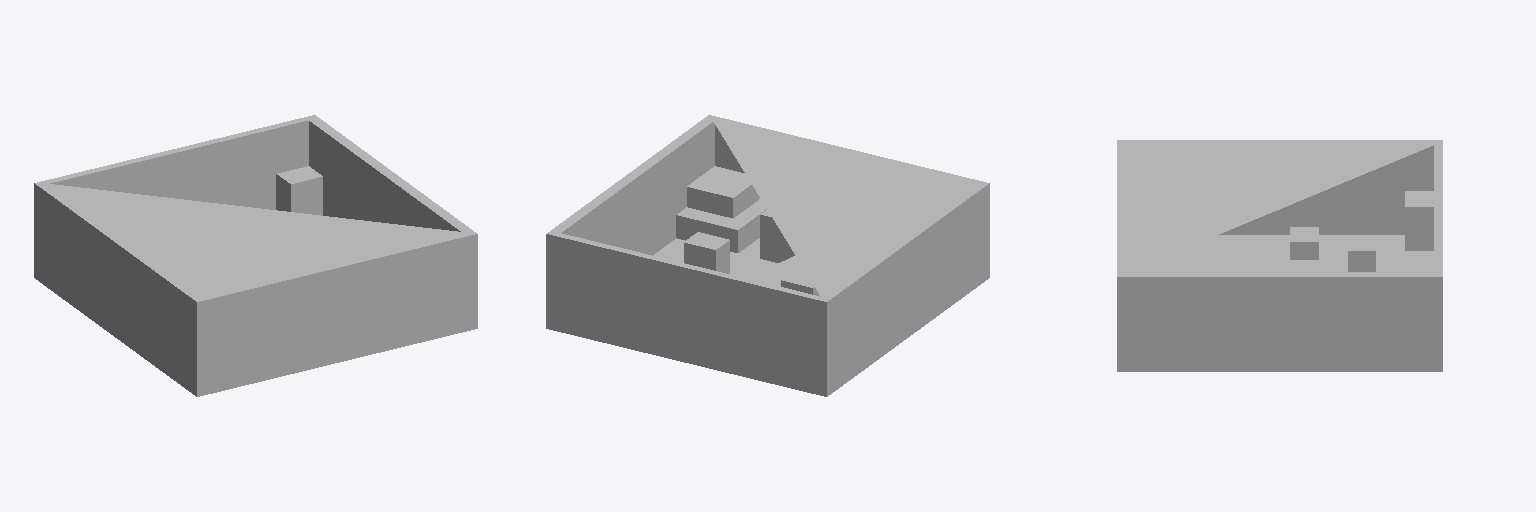
File: fuc.obj
3 renders of one model, left to right at view 1: azimuth 30°, elevation 25°; view 2: azimuth 150°, elevation 25°; view 3: azimuth 270°, elevation 25°, orthographic.
Parts seen in each view (by area): view 1: Cube; view 2: Cube; view 3: Cube.
Part boxes in pixels (x1,y1,x2,y2): Cube: (34,115,477,396); Cube: (546,115,989,396); Cube: (1117,140,1442,371).
Size of the model in its own units: 39.92 by 12.91 by 40.09.